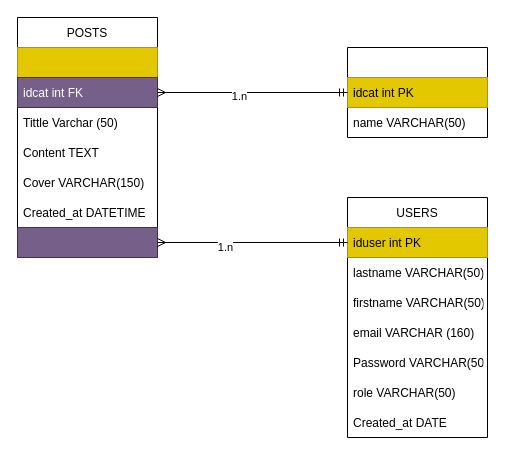
The diagram is 505 pixels wide and 455 high, and some of its shapes have lost their labels. Each missing label, with the box of its shape:
CATEGORY: (346, 46, 488, 138)
idposts int PK: (16, 46, 158, 78)
iduser int FK: (16, 226, 158, 258)
